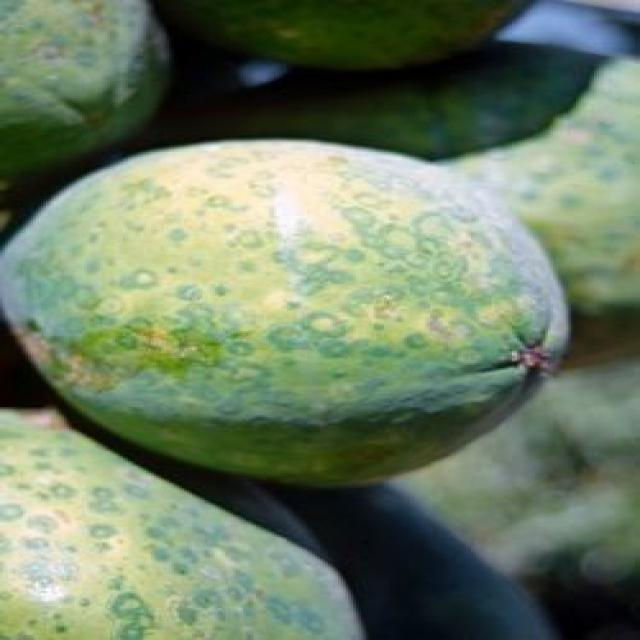Pepaya rippen: (6, 135, 579, 489)
